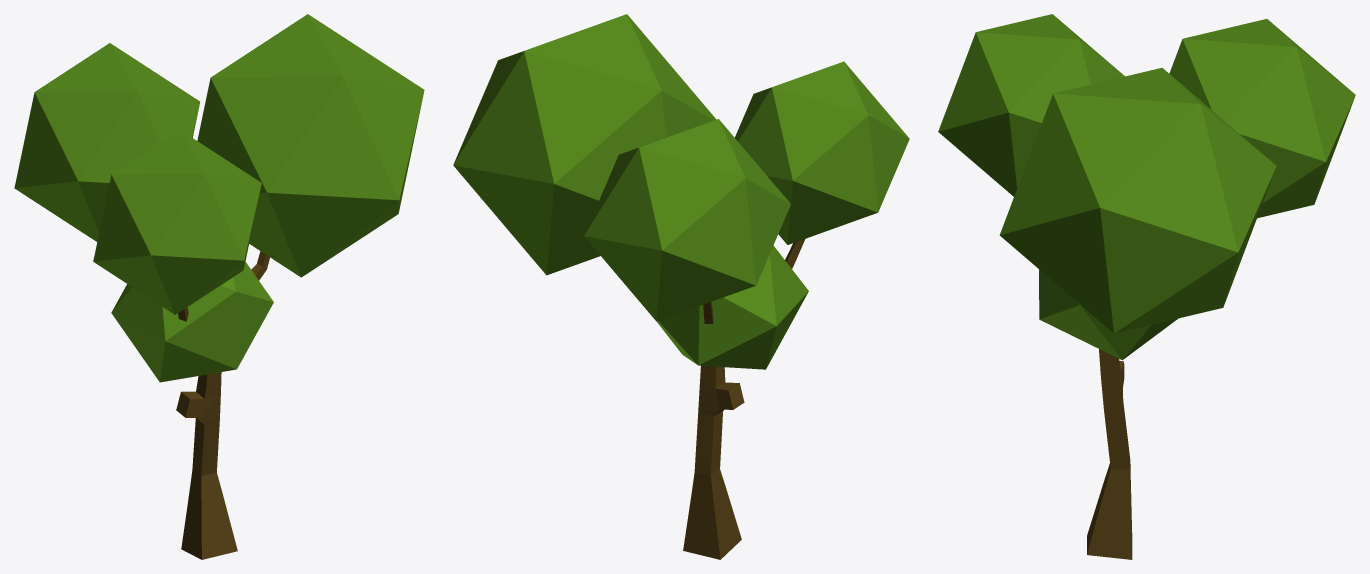
Rendered from Tree02.fbx.
The picture shows the model from 3 angles, left to right: view 1: azimuth 30°, elevation 25°; view 2: azimuth 150°, elevation 25°; view 3: azimuth 270°, elevation 25°; orthographic projection. The views are drawn at different scales.
Visible parts, largest first — view 1: Tree02; view 2: Tree02; view 3: Tree02.
Boxes of the visible parts, box(x1,y1,x2,y2) form: Tree02: box(14, 14, 424, 559); Tree02: box(453, 14, 909, 559); Tree02: box(938, 14, 1355, 559).
Bounding box in the file's own units: 4.84 × 6.29 × 4.57.
